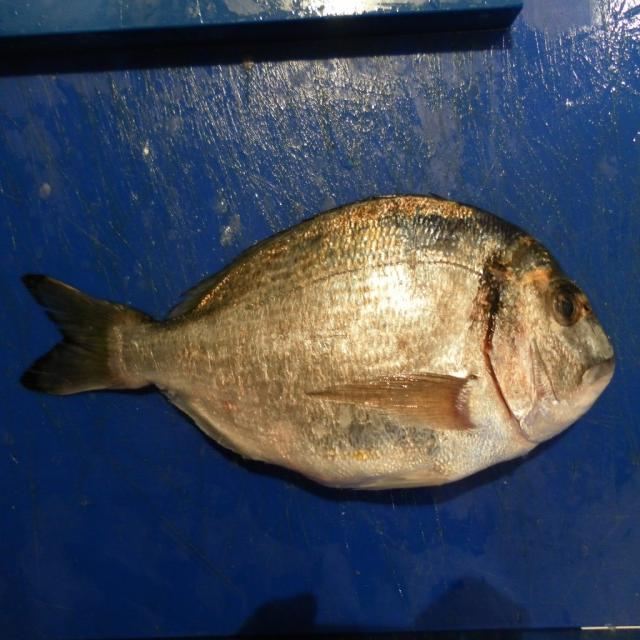Gilt-Head-Bream-c-ipura-: (18, 195, 616, 495)
